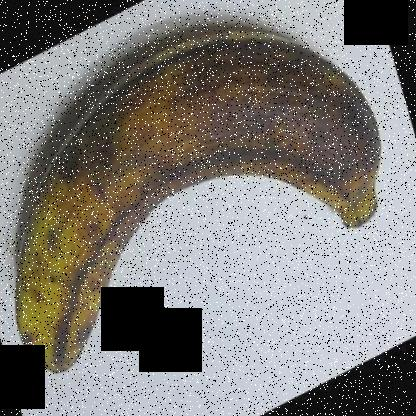overripe: (1, 13, 404, 387)
